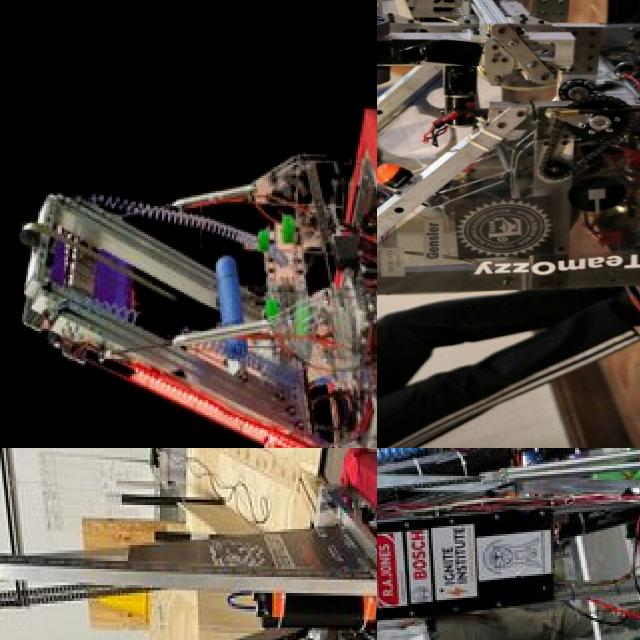FRC-Robots: (377, 0, 640, 448), (0, 139, 377, 448), (0, 448, 377, 640), (377, 448, 640, 640)
